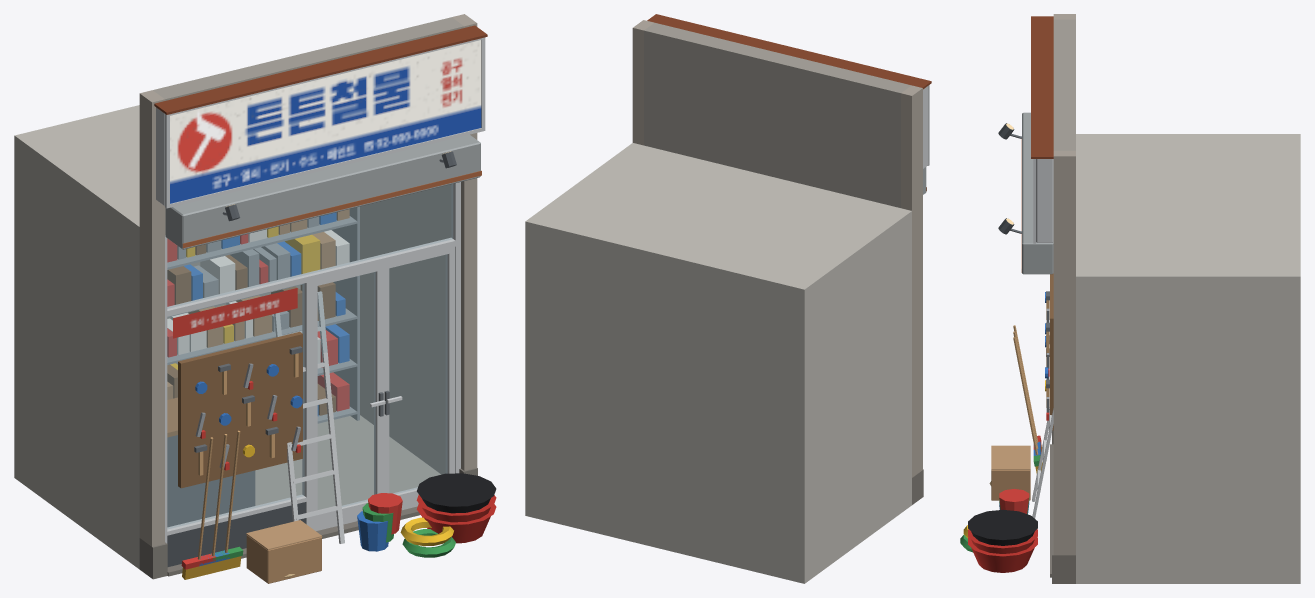
Rendered from SC_Shop_Hardware.gltf.
3 views of the same model, side by side, from view 1: azimuth 30°, elevation 25°; view 2: azimuth 150°, elevation 25°; view 3: azimuth 270°, elevation 25° (orthographic). The views are drawn at different scales.
Visible parts, largest first — view 1: SC_Shop_Hardware; view 2: SC_Shop_Hardware; view 3: SC_Shop_Hardware.
Boxes of the visible parts, <box> form: SC_Shop_Hardware: <box>14,14,496,583</box>; SC_Shop_Hardware: <box>525,14,931,583</box>; SC_Shop_Hardware: <box>960,14,1300,583</box>.
Size of the model in its own units: 3 by 4.2 by 3.03.
5 materials, 5 textured.
